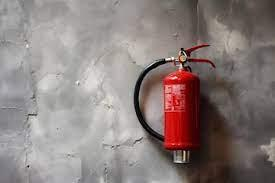wall-mounted: (121, 37, 224, 169)
